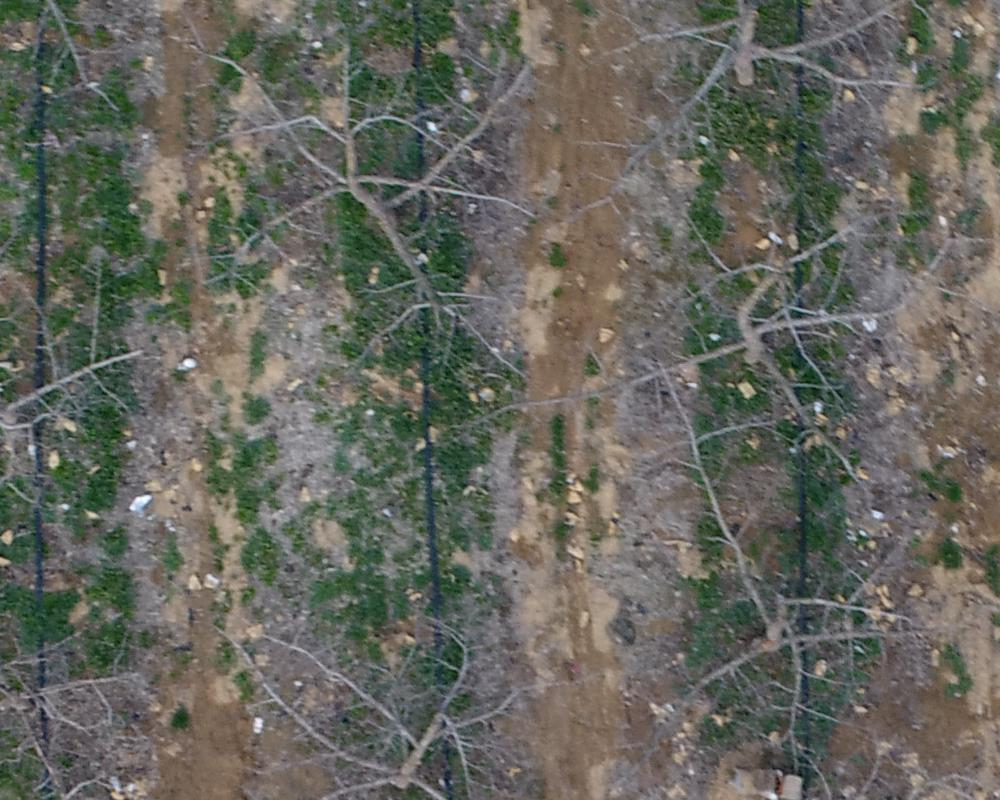apple: (171, 26, 559, 363), (639, 375, 933, 751), (614, 202, 970, 489), (210, 612, 587, 790), (616, 10, 981, 158), (10, 200, 141, 527)
